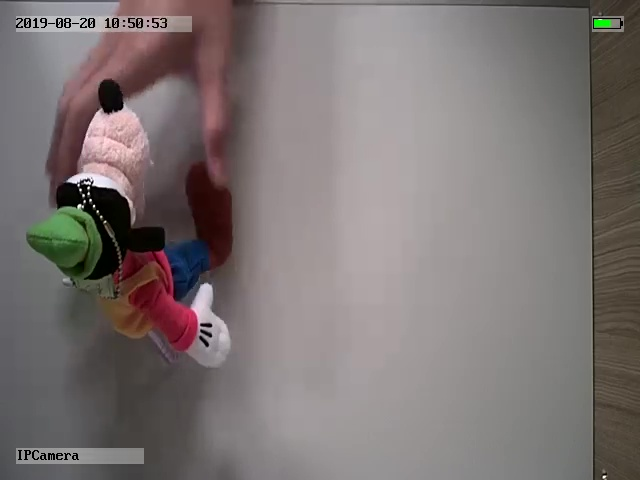goofy: (25, 80, 235, 371)
